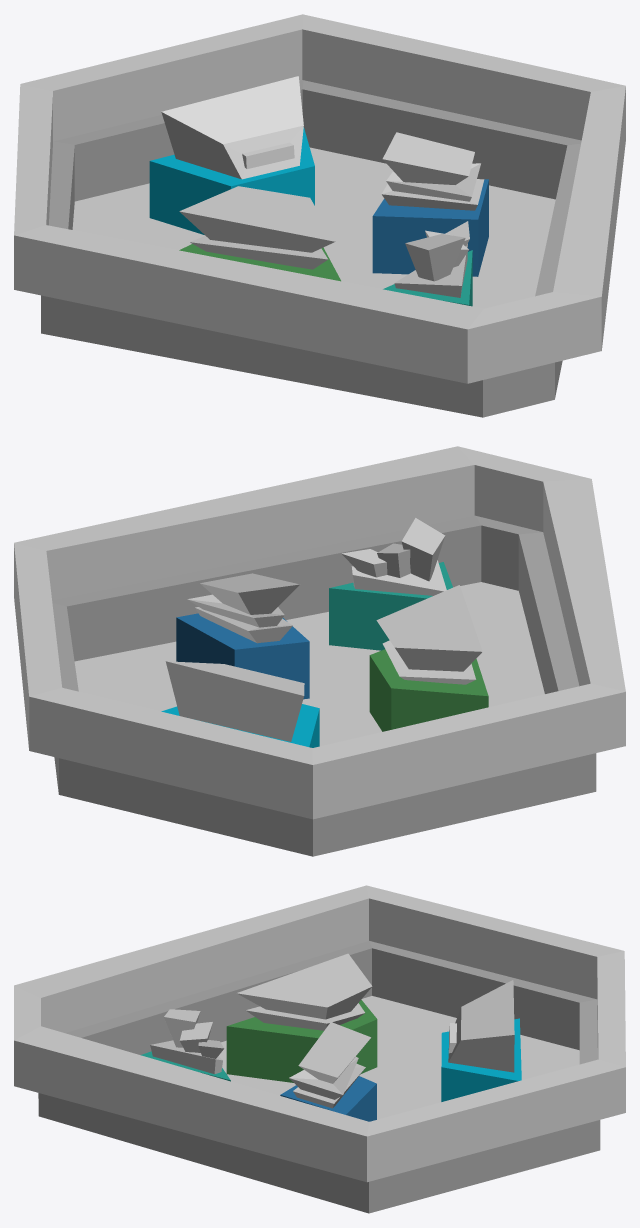
File: level3_1.fbx
The picture shows the model from 3 angles, top to bottom: view 1: azimuth 30°, elevation 25°; view 2: azimuth 150°, elevation 25°; view 3: azimuth 270°, elevation 25°; orthographic projection. The views are drawn at different scales.
Visible parts, largest first — view 1: 3-1_upper_wall, 3-1_lower_wall, 3-1_floor, 3-1_pillar_skyblue_top, 3-1_pillar_green_top, 3-1_pillar_blue_top, 3-1_pillar_skyblue, 3-1_pillar_blue, 3-1_pillar_teal_top, 3-1_pillar_green, 3-1_pillar_teal; view 2: 3-1_upper_wall, 3-1_lower_wall, 3-1_floor, 3-1_pillar_skyblue_top, 3-1_pillar_green_top, 3-1_pillar_blue, 3-1_pillar_green, 3-1_pillar_blue_top, 3-1_pillar_teal_top, 3-1_pillar_teal, 3-1_pillar_skyblue; view 3: 3-1_upper_wall, 3-1_lower_wall, 3-1_floor, 3-1_pillar_green_top, 3-1_pillar_green, 3-1_pillar_skyblue_top, 3-1_pillar_blue_top, 3-1_pillar_teal_top, 3-1_pillar_skyblue, 3-1_pillar_blue.
Part boxes in pixels (bbox=[...]): 3-1_upper_wall: bbox=[14, 14, 625, 383]; 3-1_lower_wall: bbox=[41, 80, 581, 417]; 3-1_floor: bbox=[72, 147, 555, 308]; 3-1_pillar_skyblue_top: bbox=[161, 76, 303, 179]; 3-1_pillar_green_top: bbox=[179, 186, 335, 269]; 3-1_pillar_blue_top: bbox=[381, 132, 484, 210]; 3-1_pillar_skyblue: bbox=[149, 127, 314, 234]; 3-1_pillar_blue: bbox=[372, 179, 488, 276]; 3-1_pillar_teal_top: bbox=[394, 221, 469, 297]; 3-1_pillar_green: bbox=[179, 244, 340, 281]; 3-1_pillar_teal: bbox=[383, 250, 472, 306]; 3-1_upper_wall: bbox=[14, 446, 625, 819]; 3-1_lower_wall: bbox=[52, 515, 596, 856]; 3-1_floor: bbox=[74, 582, 544, 746]; 3-1_pillar_skyblue_top: bbox=[165, 661, 304, 741]; 3-1_pillar_green_top: bbox=[376, 585, 482, 684]; 3-1_pillar_blue: bbox=[176, 613, 309, 699]; 3-1_pillar_green: bbox=[369, 649, 488, 731]; 3-1_pillar_blue_top: bbox=[187, 573, 299, 643]; 3-1_pillar_teal_top: bbox=[341, 518, 446, 595]; 3-1_pillar_teal: bbox=[329, 562, 452, 650]; 3-1_pillar_skyblue: bbox=[161, 704, 319, 747]; 3-1_upper_wall: bbox=[14, 885, 625, 1182]; 3-1_lower_wall: bbox=[38, 941, 600, 1213]; 3-1_floor: bbox=[219, 996, 579, 1119]; 3-1_pillar_green_top: bbox=[236, 953, 372, 1030]; 3-1_pillar_green: bbox=[226, 999, 377, 1082]; 3-1_pillar_skyblue_top: bbox=[448, 980, 514, 1072]; 3-1_pillar_blue_top: bbox=[289, 1022, 371, 1108]; 3-1_pillar_teal_top: bbox=[150, 1009, 224, 1074]; 3-1_pillar_skyblue: bbox=[441, 1018, 521, 1101]; 3-1_pillar_blue: bbox=[280, 1076, 376, 1121].
Size of the model in its own units: 17.97 by 3.25 by 18.5.
